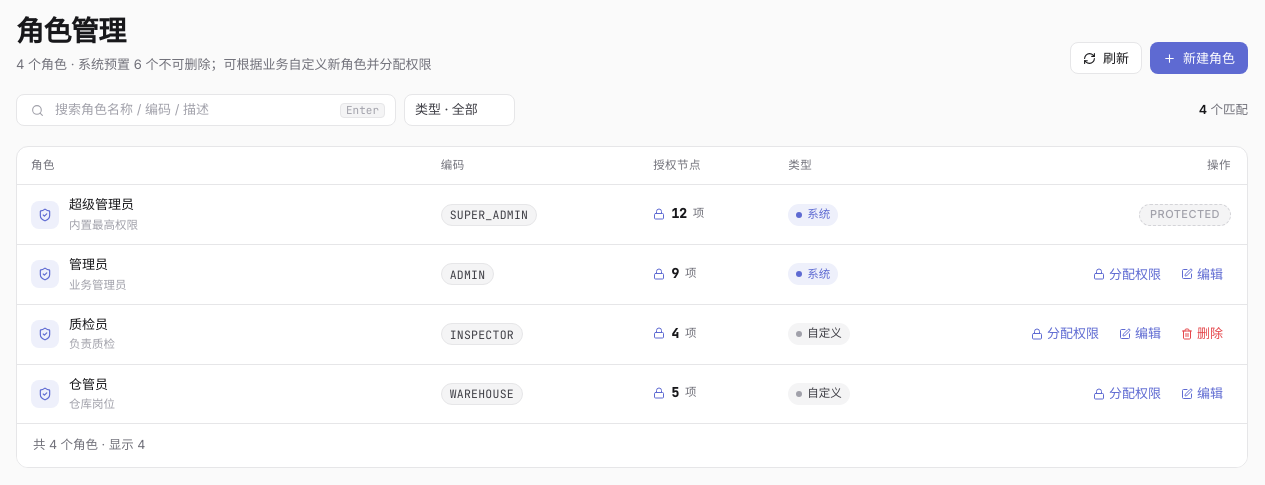
Test case: RoleList smoke › switches scope chip to system / custom and reduces visible roles
The image size is (1265, 485).
Select "类型 · 系统预置" in the dropdown with test id "role-filter-scope" at (460, 110), box [404,94,515,126]
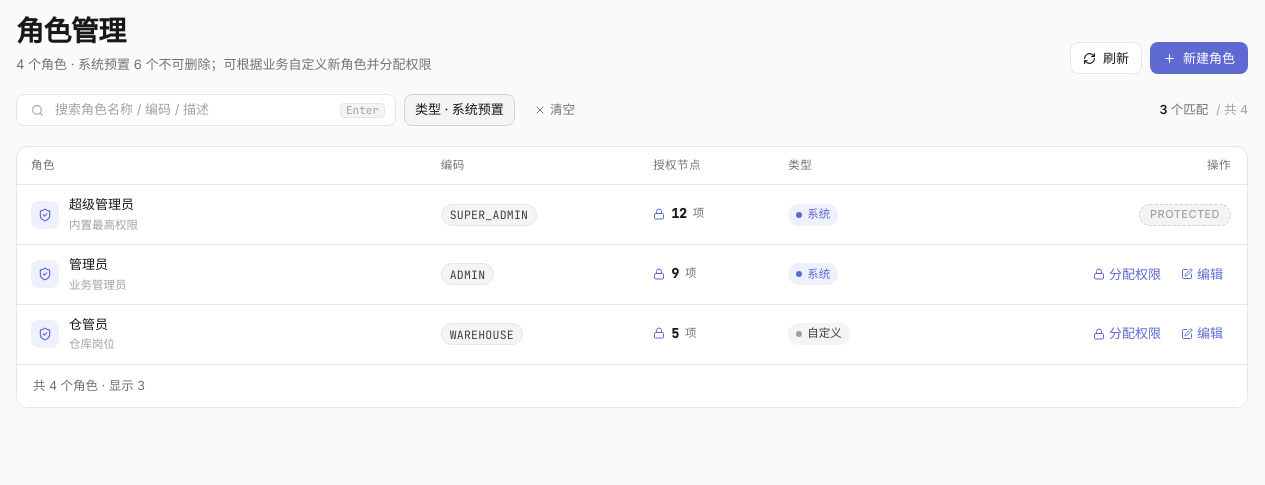
Select "类型 · 自定义" in the dropdown with test id "role-filter-scope" at (460, 110), box [404,94,515,126]
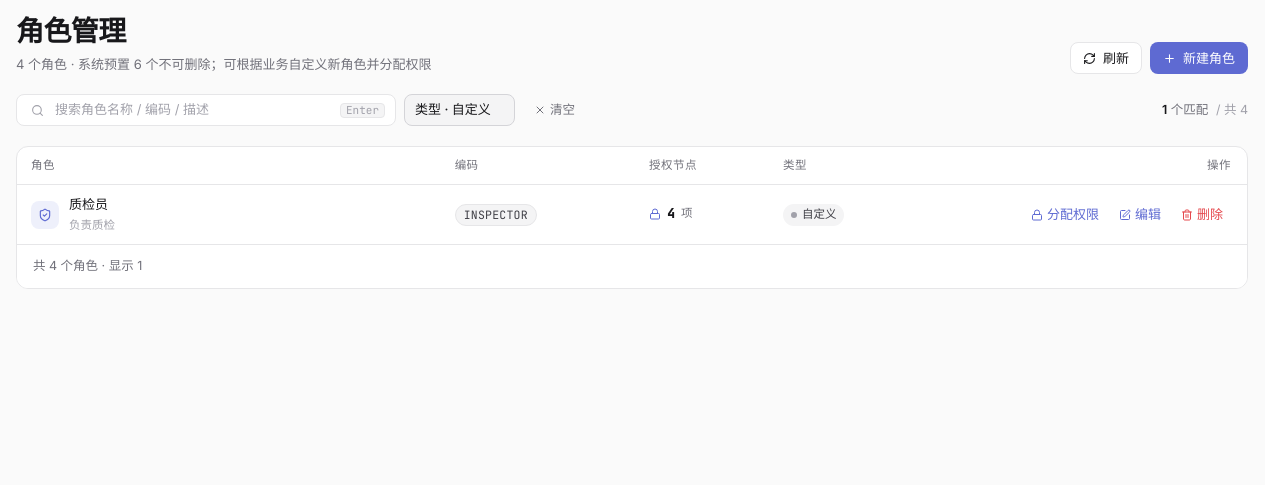
Check: the number of rows with test id "role-table-row" is 1, box [17,185,1247,244]
Check: the row with test id "role-table-row" shows "INSPECTOR", box [464,207,528,222]
